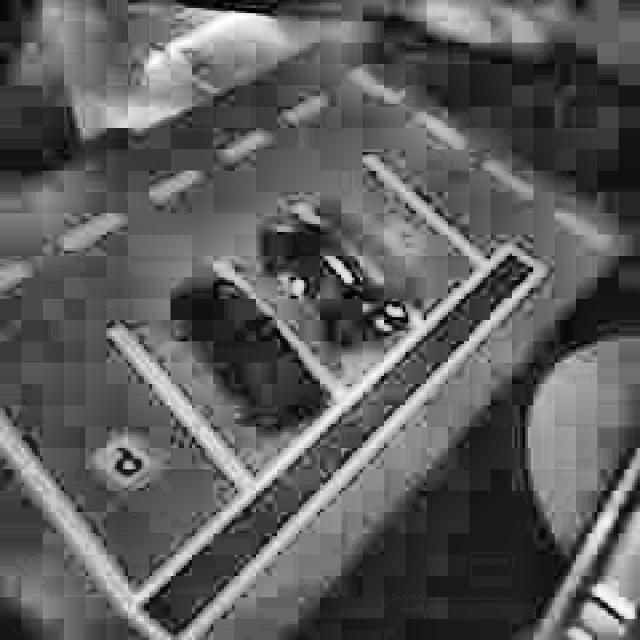car: (162, 254, 330, 438), (251, 205, 413, 360)
